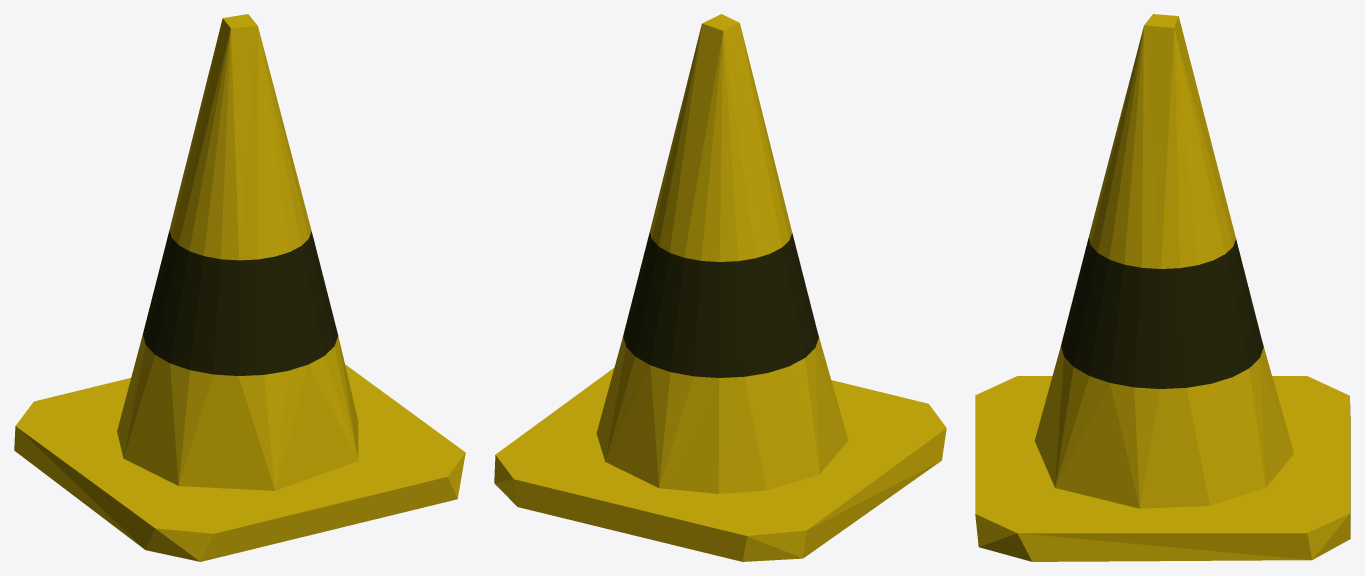
File: cone_yellow.dae
The picture shows the model from 3 angles, left to right: view 1: azimuth 30°, elevation 25°; view 2: azimuth 150°, elevation 25°; view 3: azimuth 270°, elevation 25°; orthographic projection. The views are drawn at different scales.
Visible parts, largest first — view 1: node; view 2: node; view 3: node.
Part boxes in pixels (bbox=[...]): node: bbox=[14, 14, 465, 561]; node: bbox=[494, 14, 946, 561]; node: bbox=[975, 14, 1350, 561].
Bounding box in the file's own units: 0.2254 × 0.224 × 0.3034.
